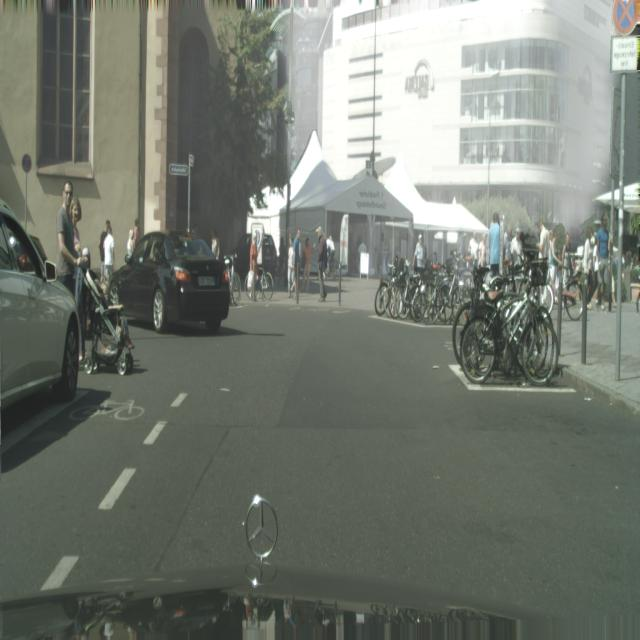car: (460, 276, 558, 386), (374, 261, 400, 315), (246, 268, 273, 302), (226, 254, 241, 305)
person: (58, 184, 133, 378), (56, 181, 81, 299), (594, 214, 613, 313), (99, 220, 115, 289), (536, 216, 549, 286), (488, 212, 501, 278), (317, 224, 327, 301), (291, 229, 301, 294), (412, 233, 427, 274), (249, 232, 258, 296), (302, 235, 312, 292), (288, 234, 295, 296), (210, 228, 220, 259)
truck: (0, 199, 81, 412), (110, 227, 233, 332)
